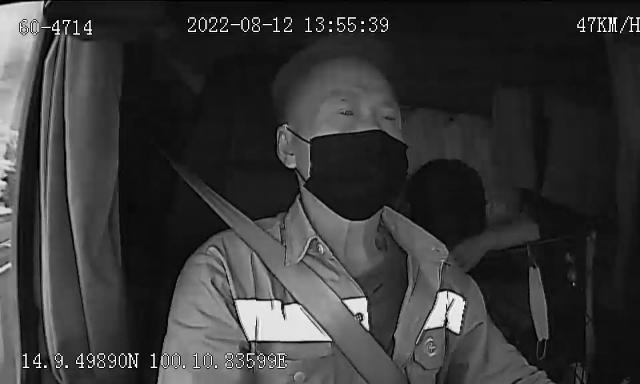Seatbelt: (172, 162, 412, 384)
